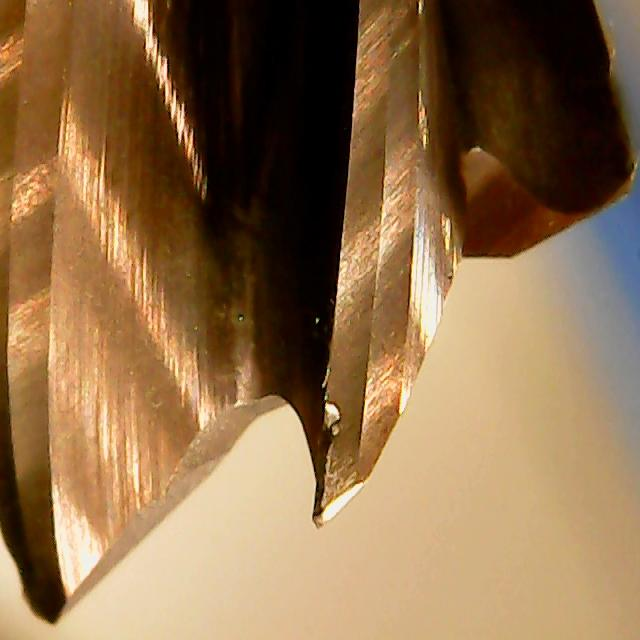Tool-wear-class-1: (298, 276, 411, 532)
